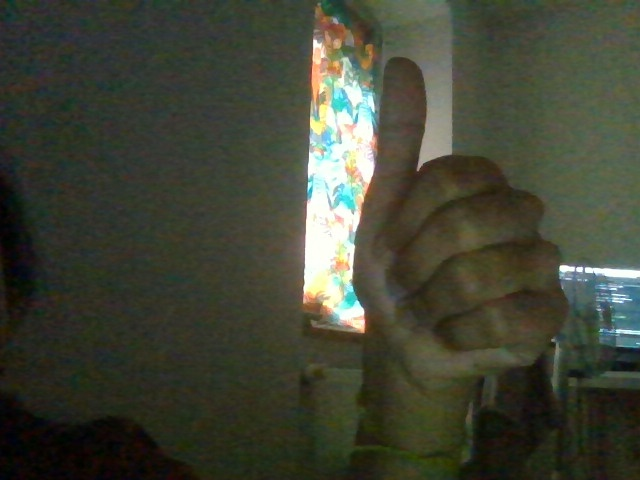Thumbs up: (325, 37, 579, 384)
